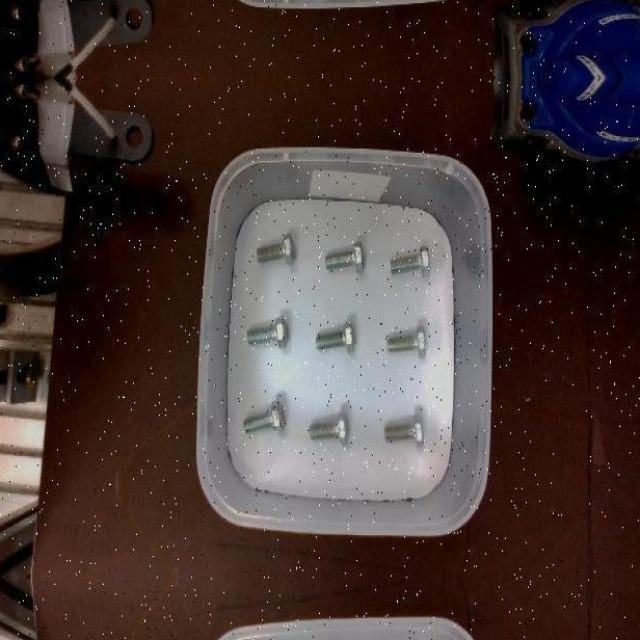screw: (243, 398, 285, 434), (309, 412, 349, 446), (247, 315, 288, 348), (388, 324, 426, 359), (324, 240, 364, 273), (316, 321, 356, 353), (390, 245, 429, 277), (384, 414, 424, 445), (257, 233, 294, 264)
